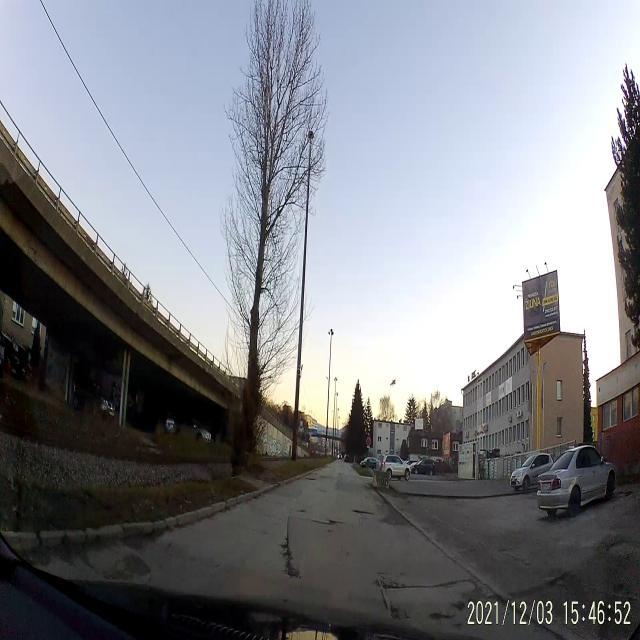Pothole: (374, 572, 412, 620), (426, 594, 464, 626), (277, 538, 302, 580), (314, 512, 343, 530), (352, 505, 372, 520)
